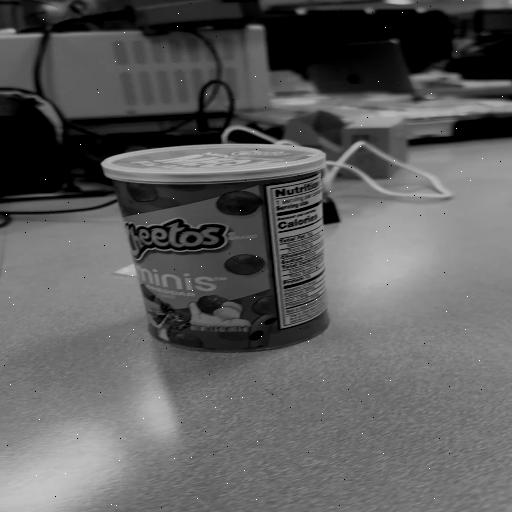pringles: (102, 145, 328, 351)
